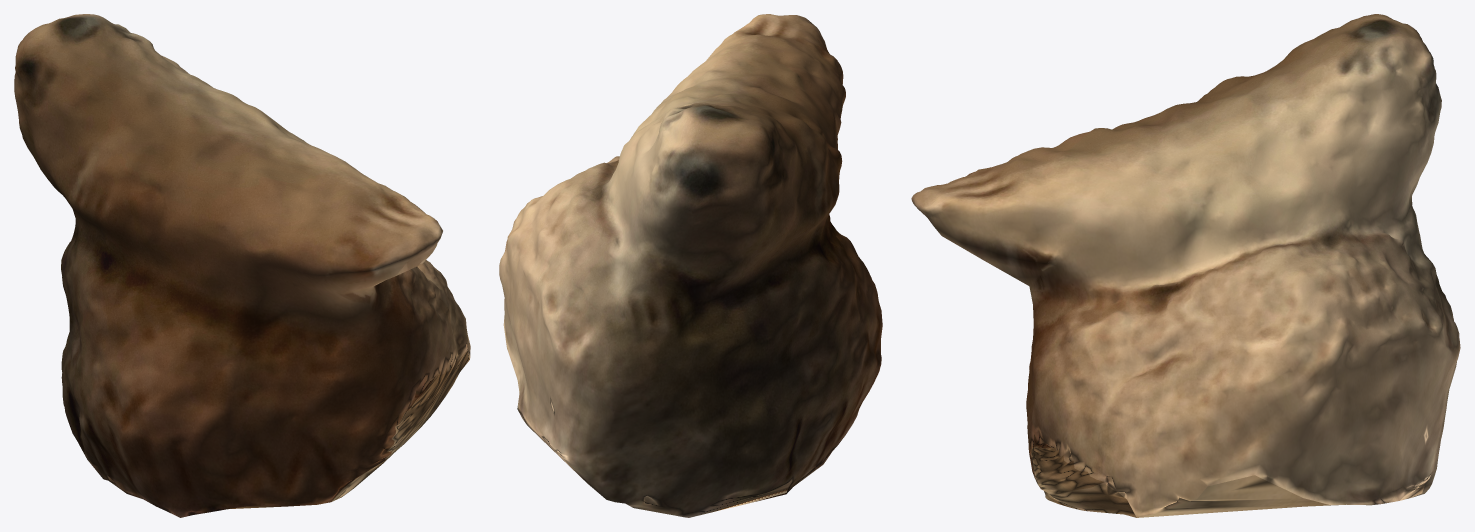
Rendered from statue_4.glb.
The picture shows the model from 3 angles, left to right: view 1: azimuth 30°, elevation 25°; view 2: azimuth 150°, elevation 25°; view 3: azimuth 270°, elevation 25°; orthographic projection. The views are drawn at different scales.
Visible parts, largest first — view 1: Mesh_0.003; view 2: Mesh_0.003; view 3: Mesh_0.003.
Boxes of the visible parts, <box> form: Mesh_0.003: <box>14,14,470,517</box>; Mesh_0.003: <box>499,14,882,517</box>; Mesh_0.003: <box>911,14,1460,517</box>.
Bounding box in the file's own units: 0.1611 × 0.1816 × 0.2039.
1 material, 1 textured.
